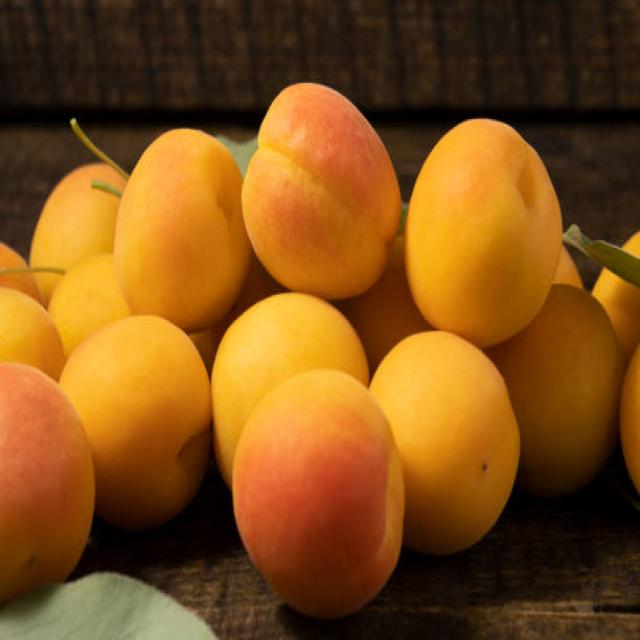kayisi: (9, 47, 635, 630)
